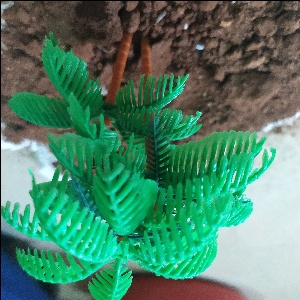plant: (4, 31, 278, 300)
